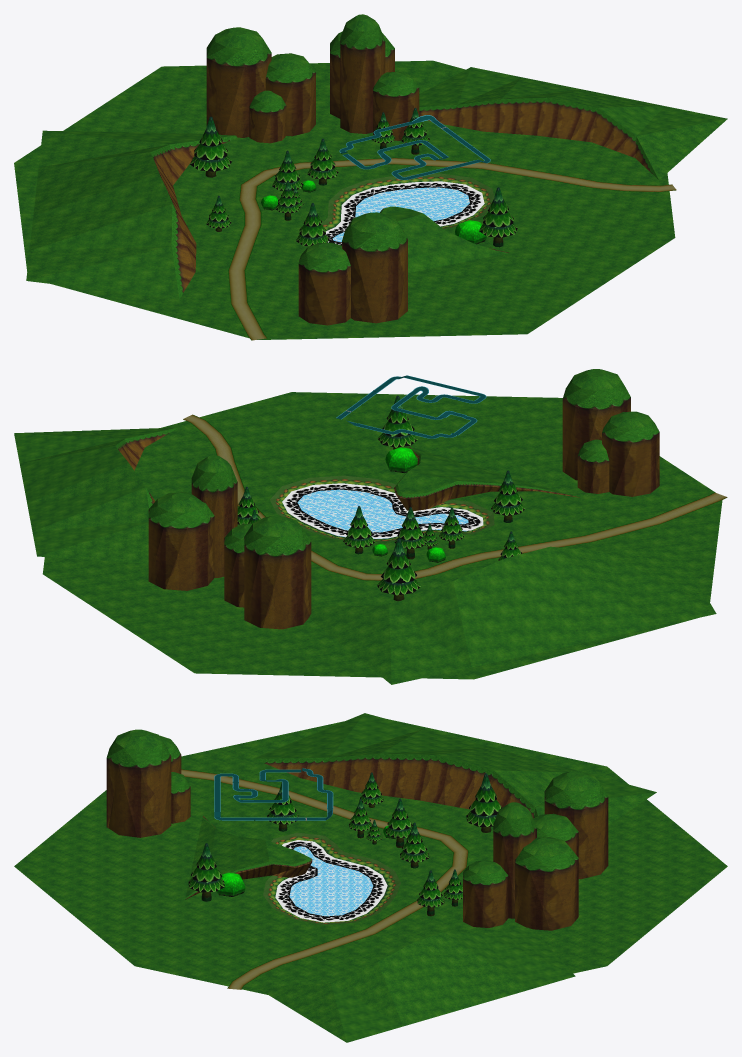
The picture shows the model from 3 angles, top to bottom: view 1: azimuth 30°, elevation 25°; view 2: azimuth 150°, elevation 25°; view 3: azimuth 270°, elevation 25°; orthographic projection. The views are drawn at different scales.
Visible parts, largest first — view 1: skylane_SKP__grass.001, skylane_SKP__wallGrass.001, skylane_SKP__treeLeafs.001, skylane_SKP__road.001, skylane_SKP__water.001, skylane_SKP__grassEdge.001, skylane_SKP__waterEdge.001, skylane_SKP__perfect_road.001, skylane_SKP__mat.001; view 2: skylane_SKP__grass.001, skylane_SKP__wallGrass.001, skylane_SKP__treeLeafs.001, skylane_SKP__road.001, skylane_SKP__water.001, skylane_SKP__waterEdge.001, skylane_SKP__grassEdge.001, skylane_SKP__perfect_road.001, skylane_SKP__mat.001; view 3: skylane_SKP__grass.001, skylane_SKP__wallGrass.001, skylane_SKP__treeLeafs.001, skylane_SKP__road.001, skylane_SKP__water.001, skylane_SKP__waterEdge.001, skylane_SKP__grassEdge.001, skylane_SKP__perfect_road.001, skylane_SKP__tree.001, skylane_SKP__mat.001.
Boxes of the visible parts, bbox=[...] form: skylane_SKP__grass.001: bbox=[14, 14, 727, 339]; skylane_SKP__wallGrass.001: bbox=[150, 23, 658, 325]; skylane_SKP__treeLeafs.001: bbox=[190, 108, 517, 246]; skylane_SKP__road.001: bbox=[228, 157, 676, 340]; skylane_SKP__water.001: bbox=[332, 187, 469, 241]; skylane_SKP__grassEdge.001: bbox=[321, 173, 494, 230]; skylane_SKP__waterEdge.001: bbox=[325, 181, 484, 245]; skylane_SKP__perfect_road.001: bbox=[339, 115, 490, 180]; skylane_SKP__mat.001: bbox=[261, 180, 486, 244]; skylane_SKP__grass.001: bbox=[14, 369, 722, 684]; skylane_SKP__wallGrass.001: bbox=[115, 376, 659, 629]; skylane_SKP__treeLeafs.001: bbox=[237, 395, 525, 595]; skylane_SKP__road.001: bbox=[183, 414, 727, 580]; skylane_SKP__water.001: bbox=[297, 489, 468, 538]; skylane_SKP__waterEdge.001: bbox=[282, 483, 483, 538]; skylane_SKP__grassEdge.001: bbox=[270, 475, 494, 541]; skylane_SKP__perfect_road.001: bbox=[336, 375, 486, 438]; skylane_SKP__mat.001: bbox=[372, 447, 445, 562]; skylane_SKP__grass.001: bbox=[14, 713, 727, 1042]; skylane_SKP__wallGrass.001: bbox=[106, 737, 608, 930]; skylane_SKP__treeLeafs.001: bbox=[188, 772, 501, 907]; skylane_SKP__road.001: bbox=[181, 769, 468, 989]; skylane_SKP__water.001: bbox=[289, 846, 373, 916]; skylane_SKP__waterEdge.001: bbox=[275, 840, 387, 922]; skylane_SKP__grassEdge.001: bbox=[263, 832, 400, 924]; skylane_SKP__perfect_road.001: bbox=[214, 768, 333, 820]; skylane_SKP__tree.001: bbox=[201, 804, 491, 916]; skylane_SKP__mat.001: bbox=[216, 825, 402, 896].
Size of the model in its own units: 618697 by 105514 by 566036.
13 materials, 13 textured.
